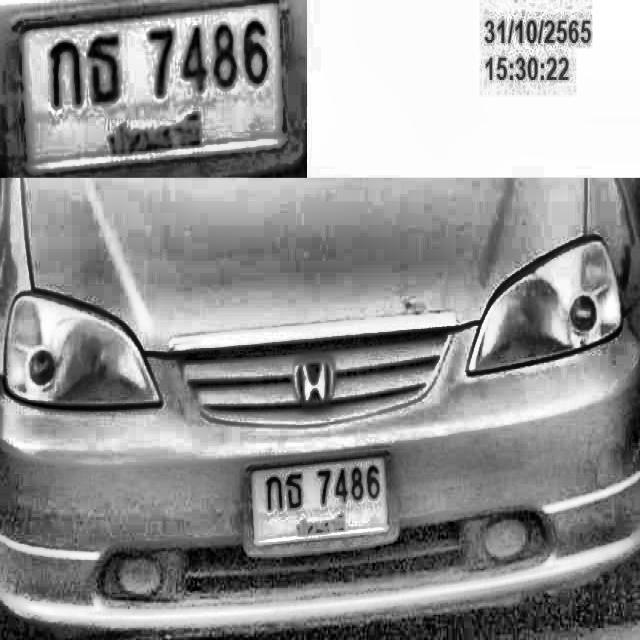license-plate: (0, 0, 305, 176), (237, 445, 403, 557)
